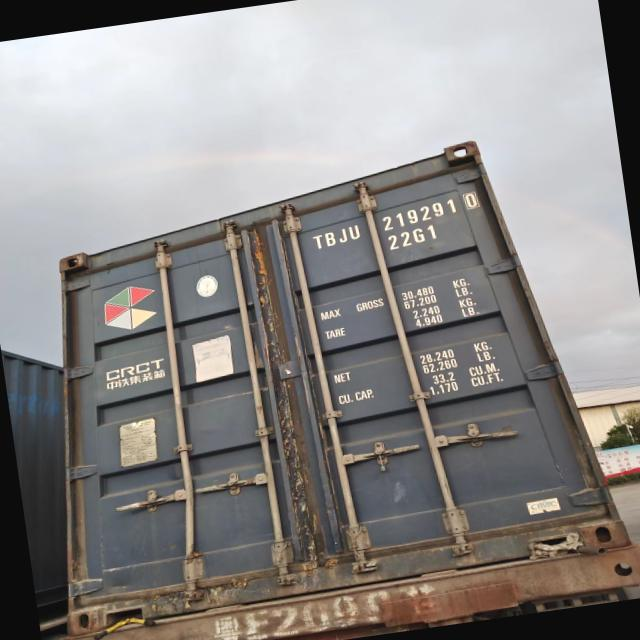seal: (370, 437, 392, 477)
